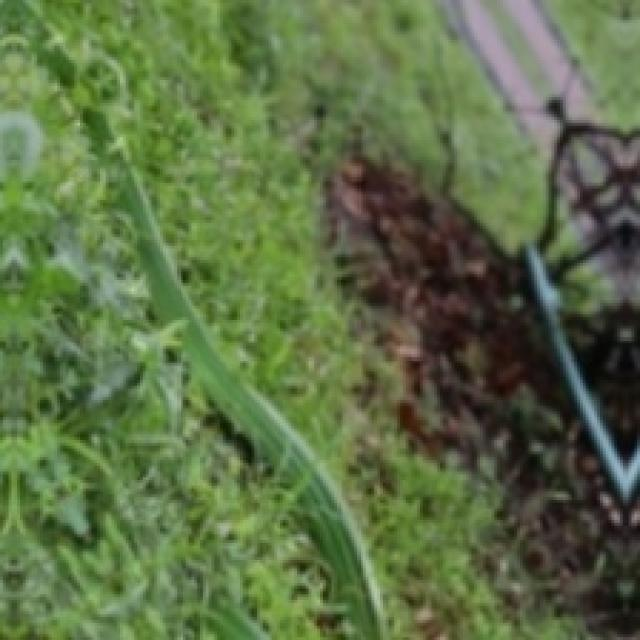red-tailed green ratsnake: (87, 110, 386, 639)
